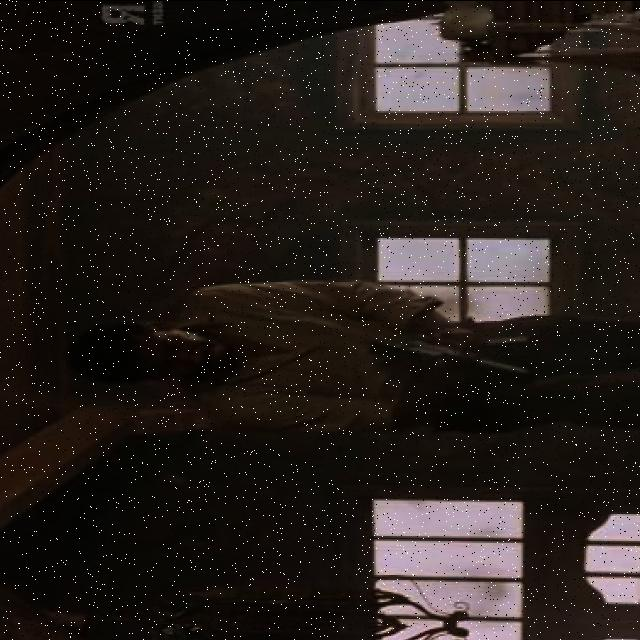Rifle: (365, 319, 538, 381)
